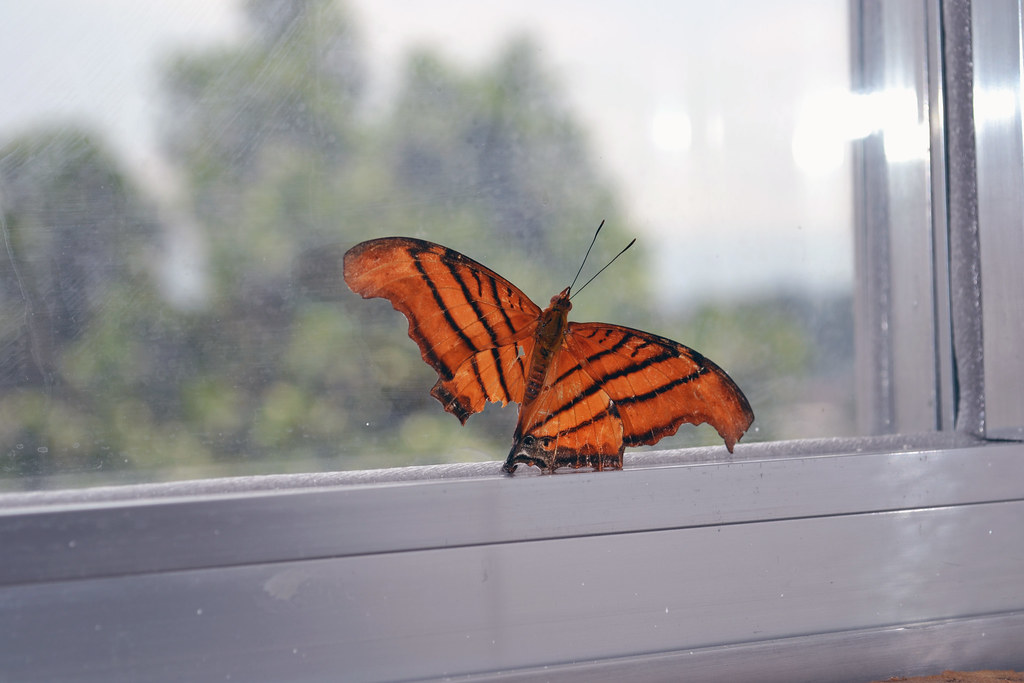Butterfly: (340, 220, 755, 477)
